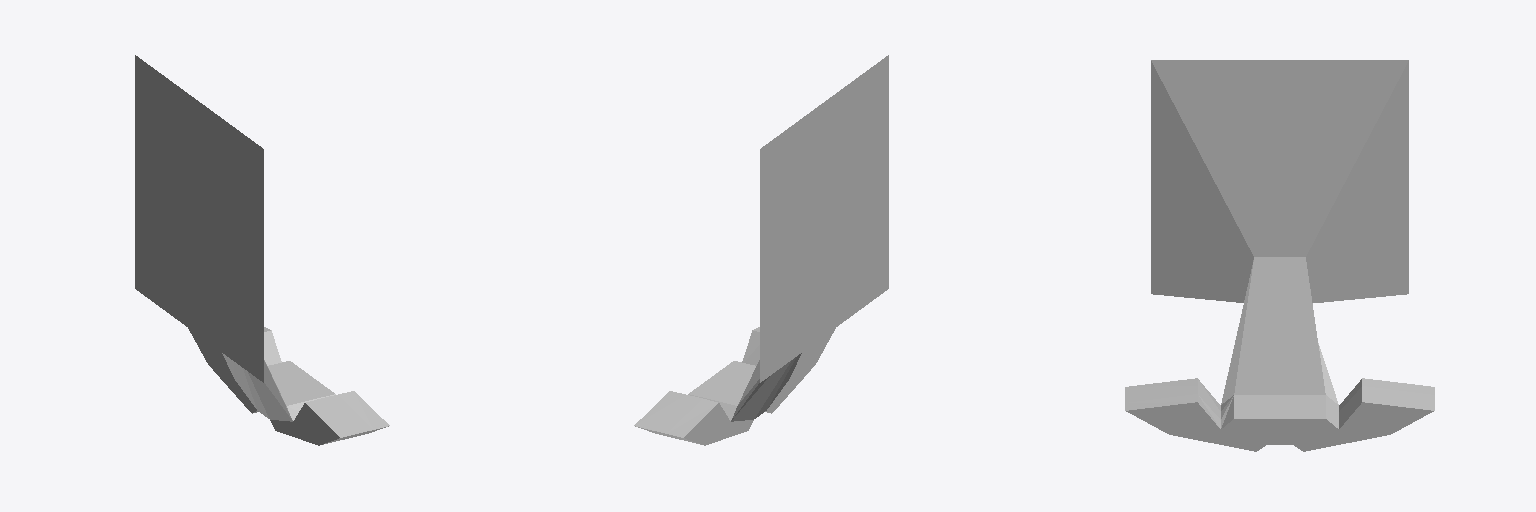
Rendered from BF_Massive_Halo_B.obj.
3 views of the same model, side by side, from view 1: azimuth 30°, elevation 25°; view 2: azimuth 150°, elevation 25°; view 3: azimuth 270°, elevation 25° (orthographic).
Parts seen in each view (by area): view 1: Cube_Cube.005; view 2: Cube_Cube.005; view 3: Cube_Cube.005.
Boxes of the visible parts, <box> form: Cube_Cube.005: <box>135,55,389,445</box>; Cube_Cube.005: <box>634,55,888,445</box>; Cube_Cube.005: <box>1125,60,1434,451</box>.
Size of the model in its own units: 2.54 by 7.18 by 5.98.